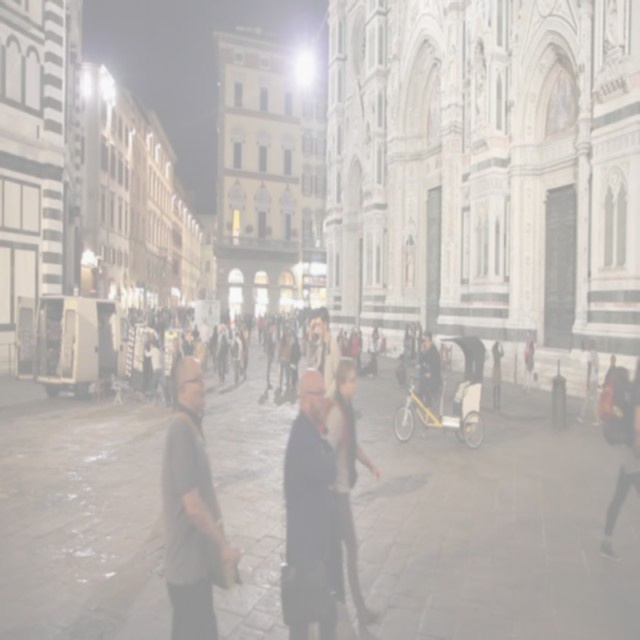pessoa: (161, 351, 244, 638), (276, 362, 352, 638), (320, 356, 385, 632), (596, 352, 640, 567), (218, 298, 318, 329), (312, 304, 342, 399), (416, 328, 443, 411), (143, 336, 172, 411), (576, 337, 600, 427), (126, 306, 196, 336), (518, 326, 536, 396), (490, 333, 504, 412), (276, 330, 292, 392), (264, 320, 278, 390), (229, 330, 243, 390), (288, 332, 302, 392), (596, 350, 616, 390), (217, 324, 230, 384), (237, 328, 250, 383), (206, 323, 218, 376), (393, 352, 408, 389), (362, 348, 378, 381), (408, 318, 417, 366), (437, 339, 450, 372), (351, 329, 361, 371), (192, 340, 208, 366), (348, 324, 356, 374), (223, 329, 235, 362), (402, 321, 410, 367), (182, 326, 194, 356), (297, 328, 309, 358), (378, 324, 388, 359), (256, 328, 266, 361), (414, 324, 422, 364), (171, 334, 183, 360), (370, 324, 380, 354), (418, 330, 426, 366), (341, 328, 350, 358), (272, 329, 281, 356), (358, 329, 364, 364), (335, 324, 345, 342), (286, 329, 292, 354), (243, 328, 250, 347), (112, 292, 120, 306), (356, 324, 360, 337), (416, 318, 422, 326)
